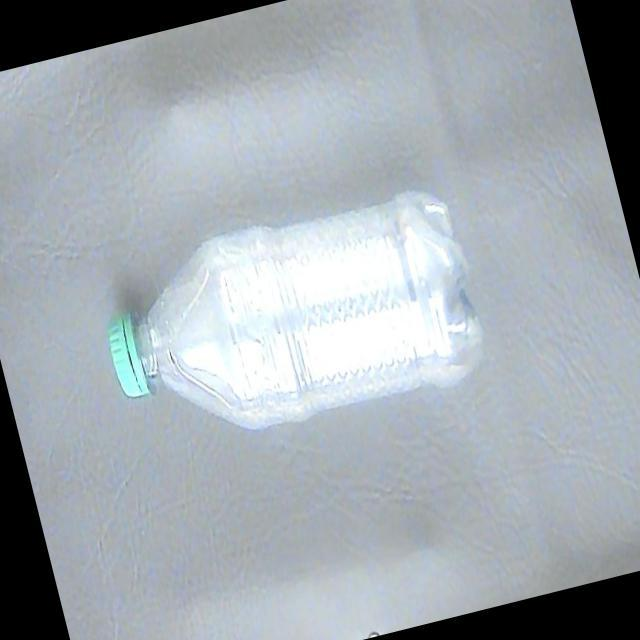good: (85, 168, 498, 471)
